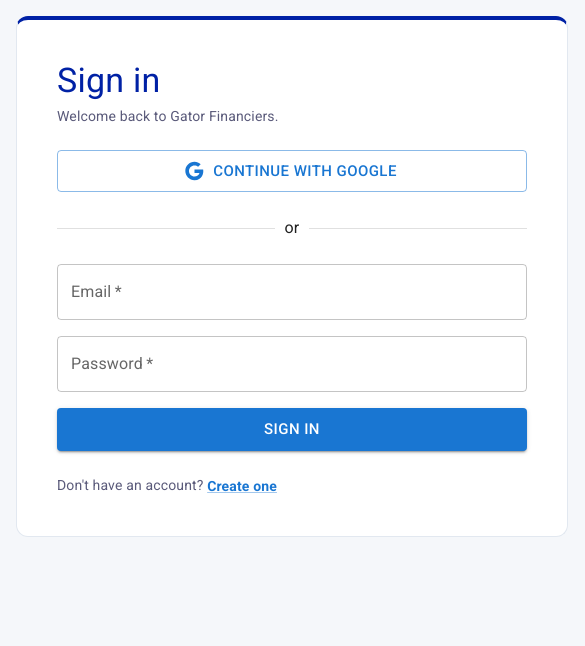
Scenario: LoginPage › signs the user up and shows the confirmation notice
The width and height of the screenshot is (585, 646).
Click the button "Create one" at {"x": 242, "y": 486}, box [207,476,277,496]
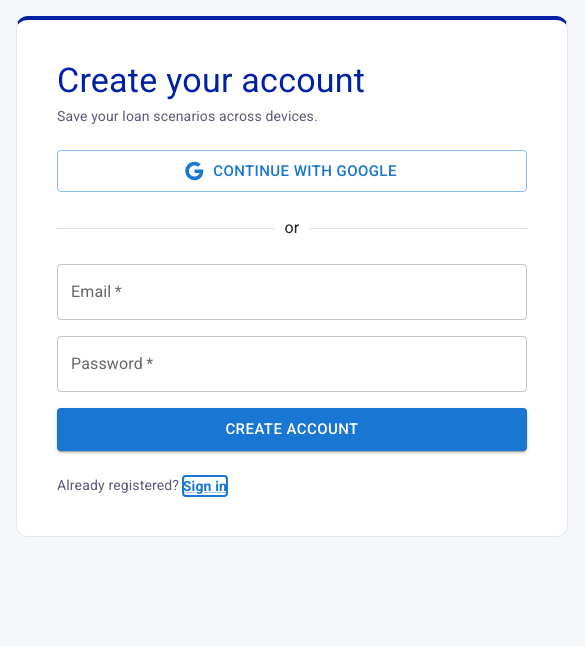
Type "new@example.com" into the field labelled "Email *" at {"x": 292, "y": 292}, box [57,264,527,320]
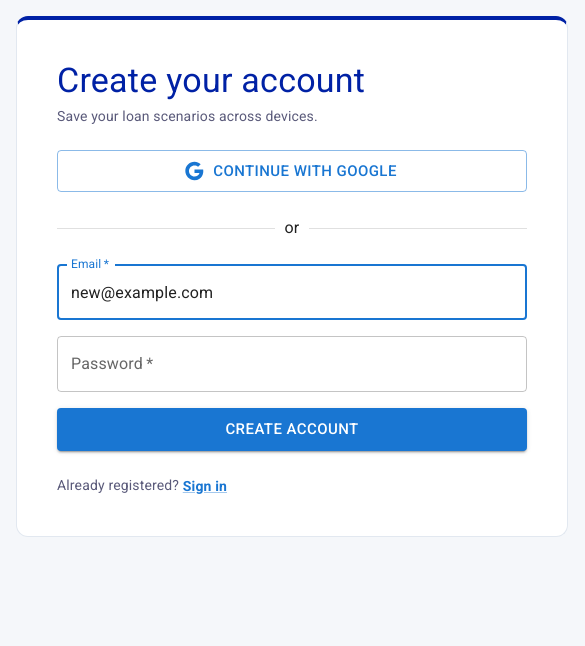
Type "longenough" into the password field labelled "Password *" at {"x": 292, "y": 364}, box [57,336,527,392]
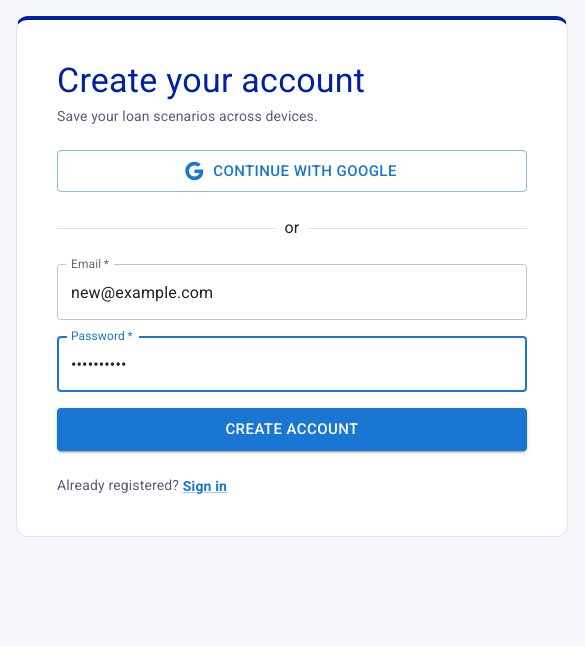
Click the button "Create account" at {"x": 292, "y": 429}, box [57,408,527,451]
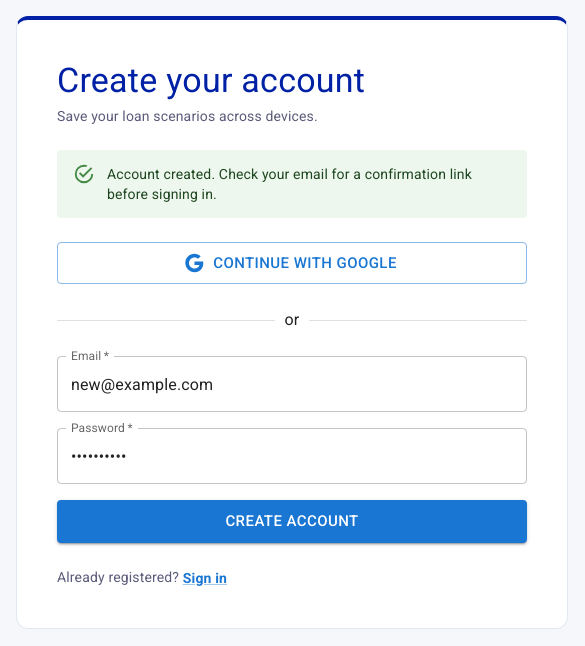
Now the text "Check your email for a confirmation link" is shown, box [107,166,472,202]
